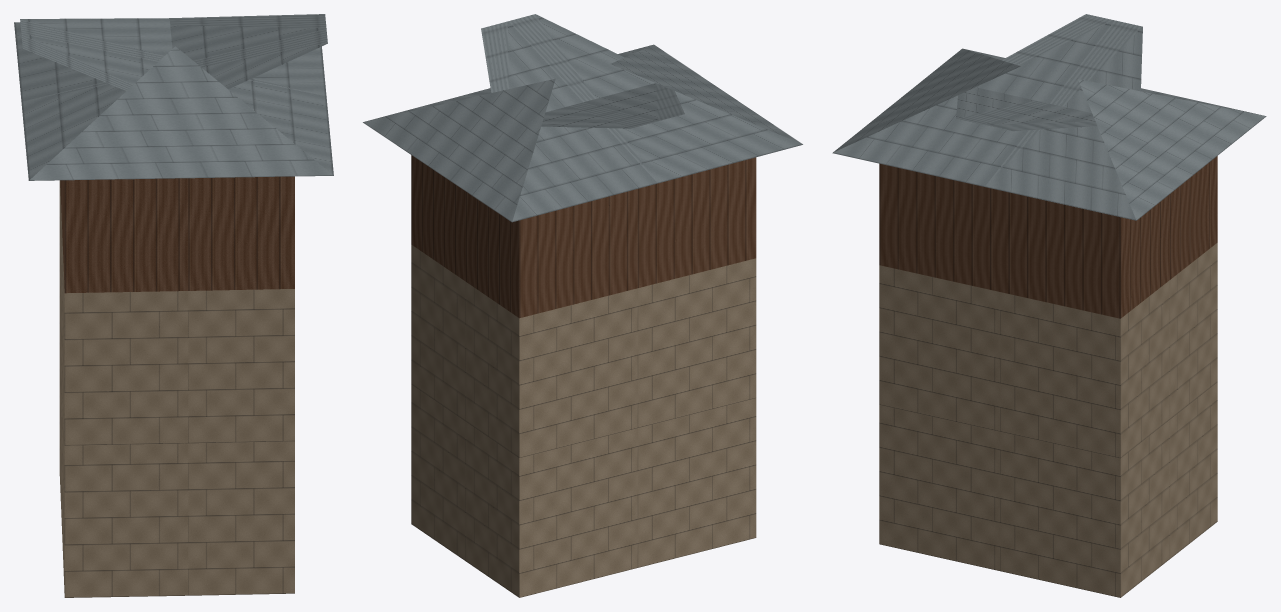
File: bld_c2_17_470.gltf
3 views of the same model, side by side, from view 1: azimuth 30°, elevation 25°; view 2: azimuth 150°, elevation 25°; view 3: azimuth 270°, elevation 25° (orthographic). The views are drawn at different scales.
Parts seen in each view (by area): view 1: bld_c2_17_470; view 2: bld_c2_17_470; view 3: bld_c2_17_470.
Boxes of the visible parts, box(x1,y1,x2,y2) form: bld_c2_17_470: box(14, 14, 333, 597); bld_c2_17_470: box(363, 14, 802, 597); bld_c2_17_470: box(832, 14, 1266, 597).
Size of the model in its own units: 5.96 by 7.4 by 6.35.
3 materials, 3 textured.
